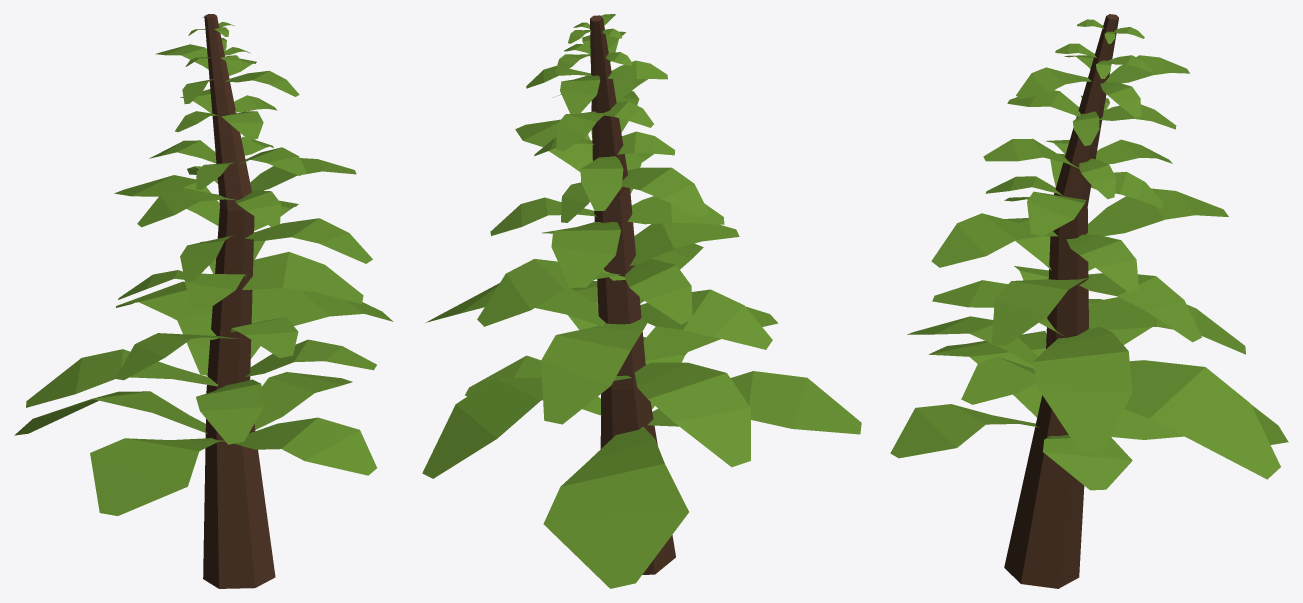
The model's file is Tree_4.fbx.
3 renders of one model, left to right at view 1: azimuth 30°, elevation 25°; view 2: azimuth 150°, elevation 25°; view 3: azimuth 270°, elevation 25°, orthographic. The views are drawn at different scales.
Visible parts, largest first — view 1: M_Tree 4; view 2: M_Tree 4; view 3: M_Tree 4.
Boxes of the visible parts, left/top/right/bottom form: M_Tree 4: left=14, top=14, right=393, bottom=588; M_Tree 4: left=422, top=14, right=861, bottom=588; M_Tree 4: left=890, top=14, right=1288, bottom=588.
Size of the model in its own units: 1.27 by 1.89 by 1.21.
1 material, 1 textured.
